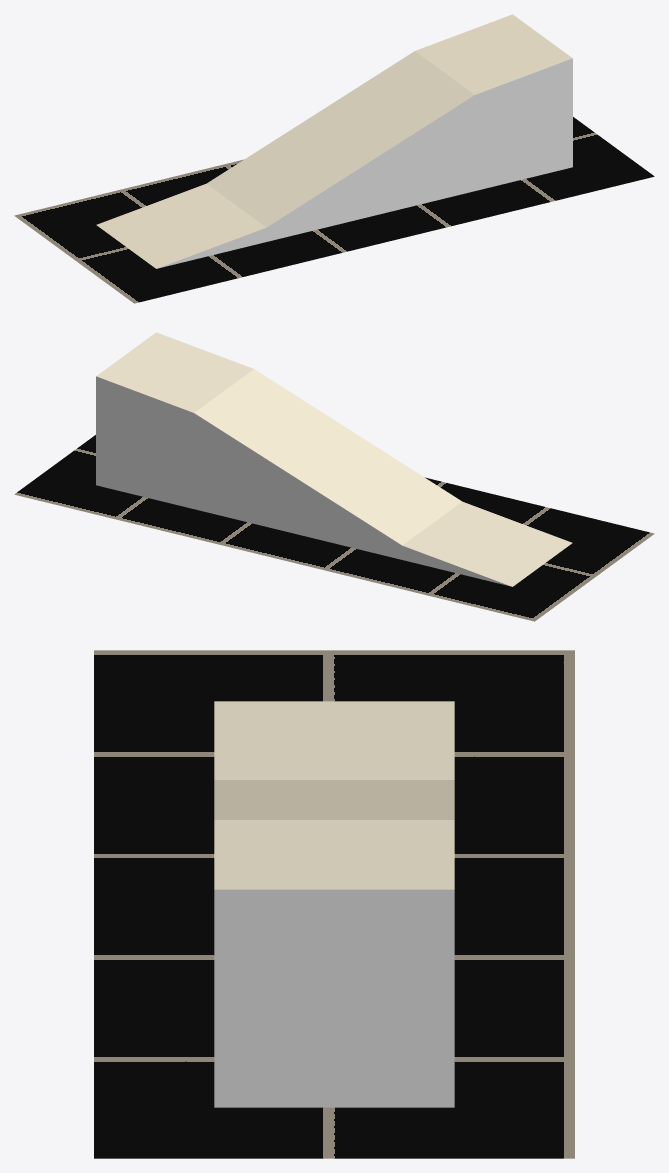
File: Path_Terrain_Incline_Gentle_Center_1x4.glb
3 views of the same model, one above another, from view 1: azimuth 30°, elevation 25°; view 2: azimuth 150°, elevation 25°; view 3: azimuth 270°, elevation 25° (orthographic). The views are drawn at different scales.
Visible parts, largest first — view 1: Path_Terrain_Incline_Gentle_Center_1x4, Floor; view 2: Path_Terrain_Incline_Gentle_Center_1x4, Floor; view 3: Floor, Path_Terrain_Incline_Gentle_Center_1x4.
Part boxes in pixels (left/top/right/bottom): Path_Terrain_Incline_Gentle_Center_1x4: left=96, top=14, right=572, bottom=268; Floor: left=14, top=117, right=654, bottom=303; Path_Terrain_Incline_Gentle_Center_1x4: left=96, top=332, right=572, bottom=586; Floor: left=14, top=435, right=654, bottom=621; Floor: left=94, top=650, right=574, bottom=1158; Path_Terrain_Incline_Gentle_Center_1x4: left=214, top=701, right=454, bottom=1107.
Size of the model in its own units: 500 by 100 by 200.
3 materials, 1 textured.
